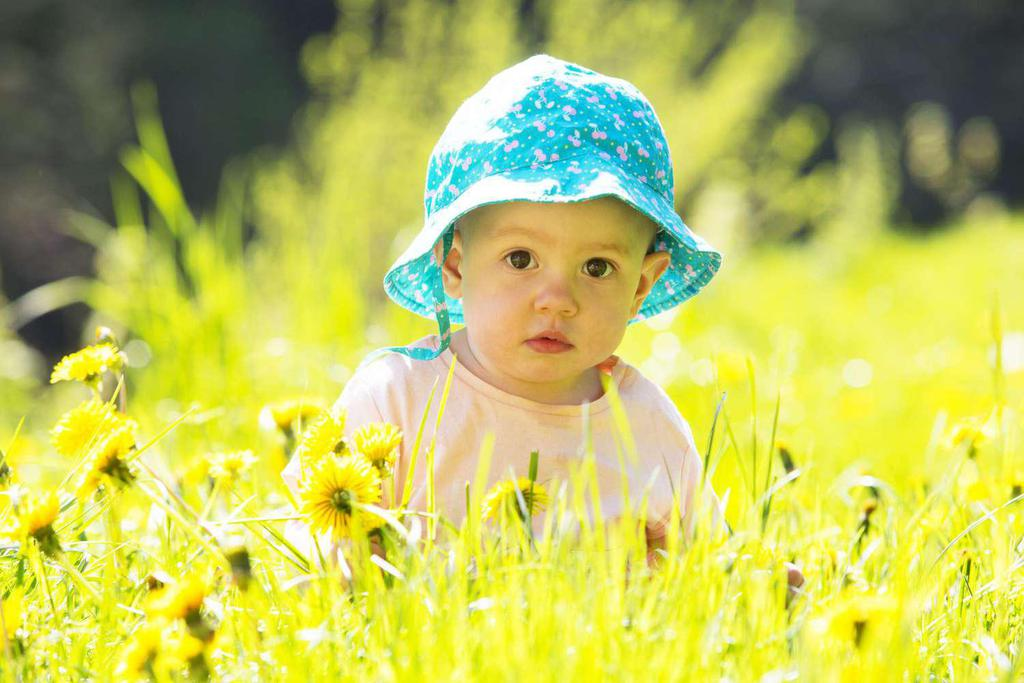child: (253, 37, 825, 631)
